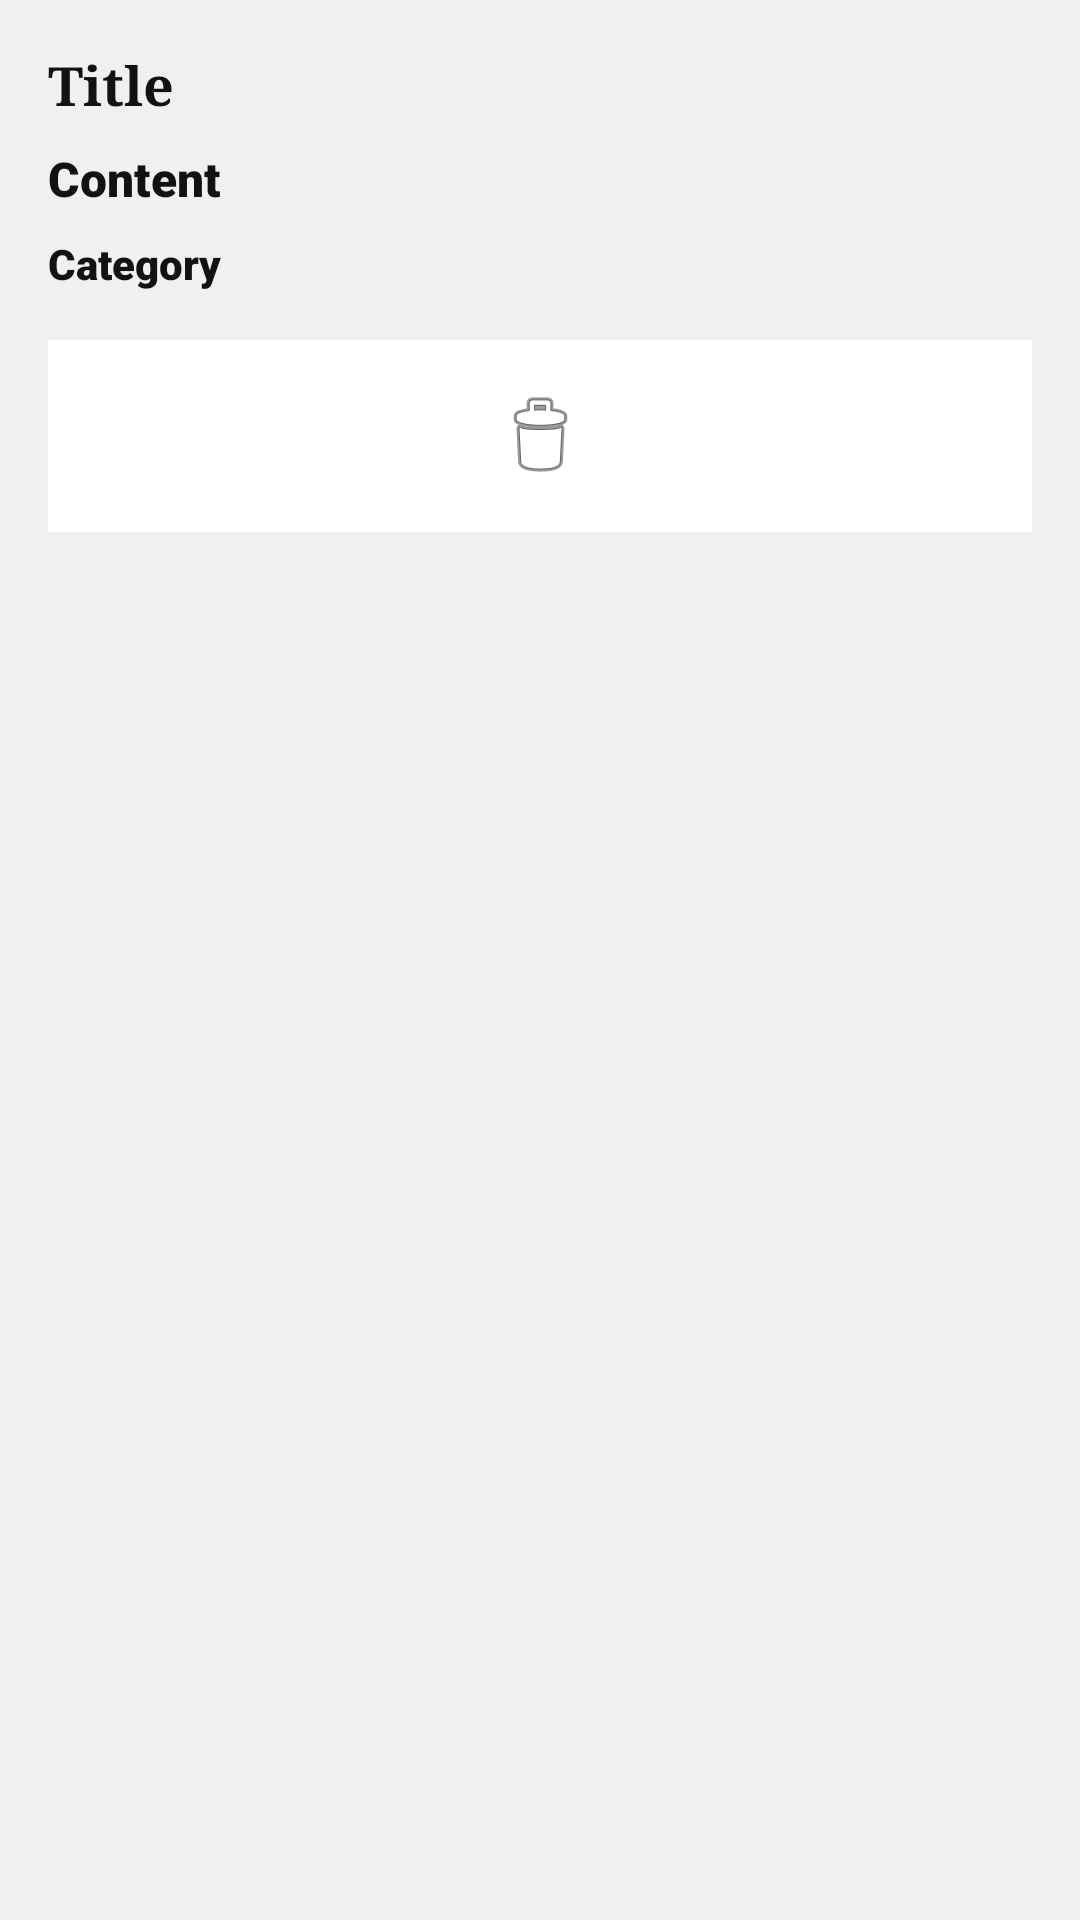

Icon bounding boxes for this 1080 x 1920 phone screenshot, format (x1, y1, x2, y2):
delete: (513, 397, 568, 472)
